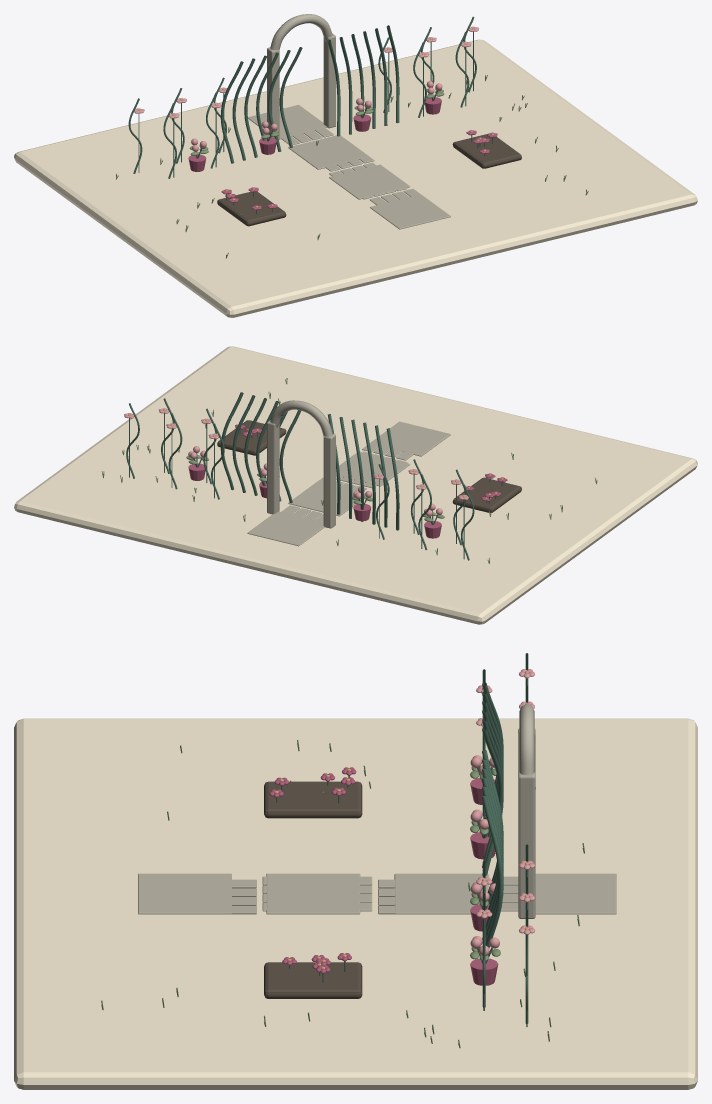
File: sleep_garden-BNCGkICx.glb
3 views of the same model, one above another, from view 1: azimuth 30°, elevation 25°; view 2: azimuth 150°, elevation 25°; view 3: azimuth 270°, elevation 25° (orthographic). The views are drawn at different scales.
Visible parts, largest first — view 1: world_cream.038, world_stone.038, world_leafdark.038, world_darkwood.038, FX_blooms_rose.038, FX_blooms_flower.038, world_rose.038, world_flower.038; view 2: world_cream.038, world_stone.038, world_leafdark.038, world_darkwood.038, FX_blooms_rose.038, world_flower.038, FX_blooms_flower.038; view 3: world_cream.038, world_stone.038, world_darkwood.038, world_leafdark.038, FX_blooms_rose.038, world_rose.038, FX_blooms_flower.038, world_flower.038.
Part boxes in pixels (x1,y1,x2,y2): world_cream.038: (14,39,697,317); world_stone.038: (248,14,450,229); world_leafdark.038: (128,16,493,214); world_darkwood.038: (217,133,521,226); FX_blooms_rose.038: (188,97,441,171); FX_blooms_flower.038: (191,81,442,151); world_rose.038: (221,130,497,210); world_flower.038: (134,26,478,118); world_cream.038: (14,346,697,624); world_stone.038: (247,400,450,546); world_leafdark.038: (126,392,502,560); world_darkwood.038: (217,420,521,512); FX_blooms_rose.038: (188,463,441,538); world_flower.038: (124,408,468,499); FX_blooms_flower.038: (188,446,442,516); world_cream.038: (14,718,697,1089); world_stone.038: (138,704,616,918); world_darkwood.038: (264,781,362,998); world_leafdark.038: (276,653,528,1026); FX_blooms_rose.038: (470,778,498,985); world_rose.038: (269,767,356,973); FX_blooms_flower.038: (470,755,499,955); world_flower.038: (476,669,534,934).
Size of the model in its own units: 20 by 5.24 by 16.
